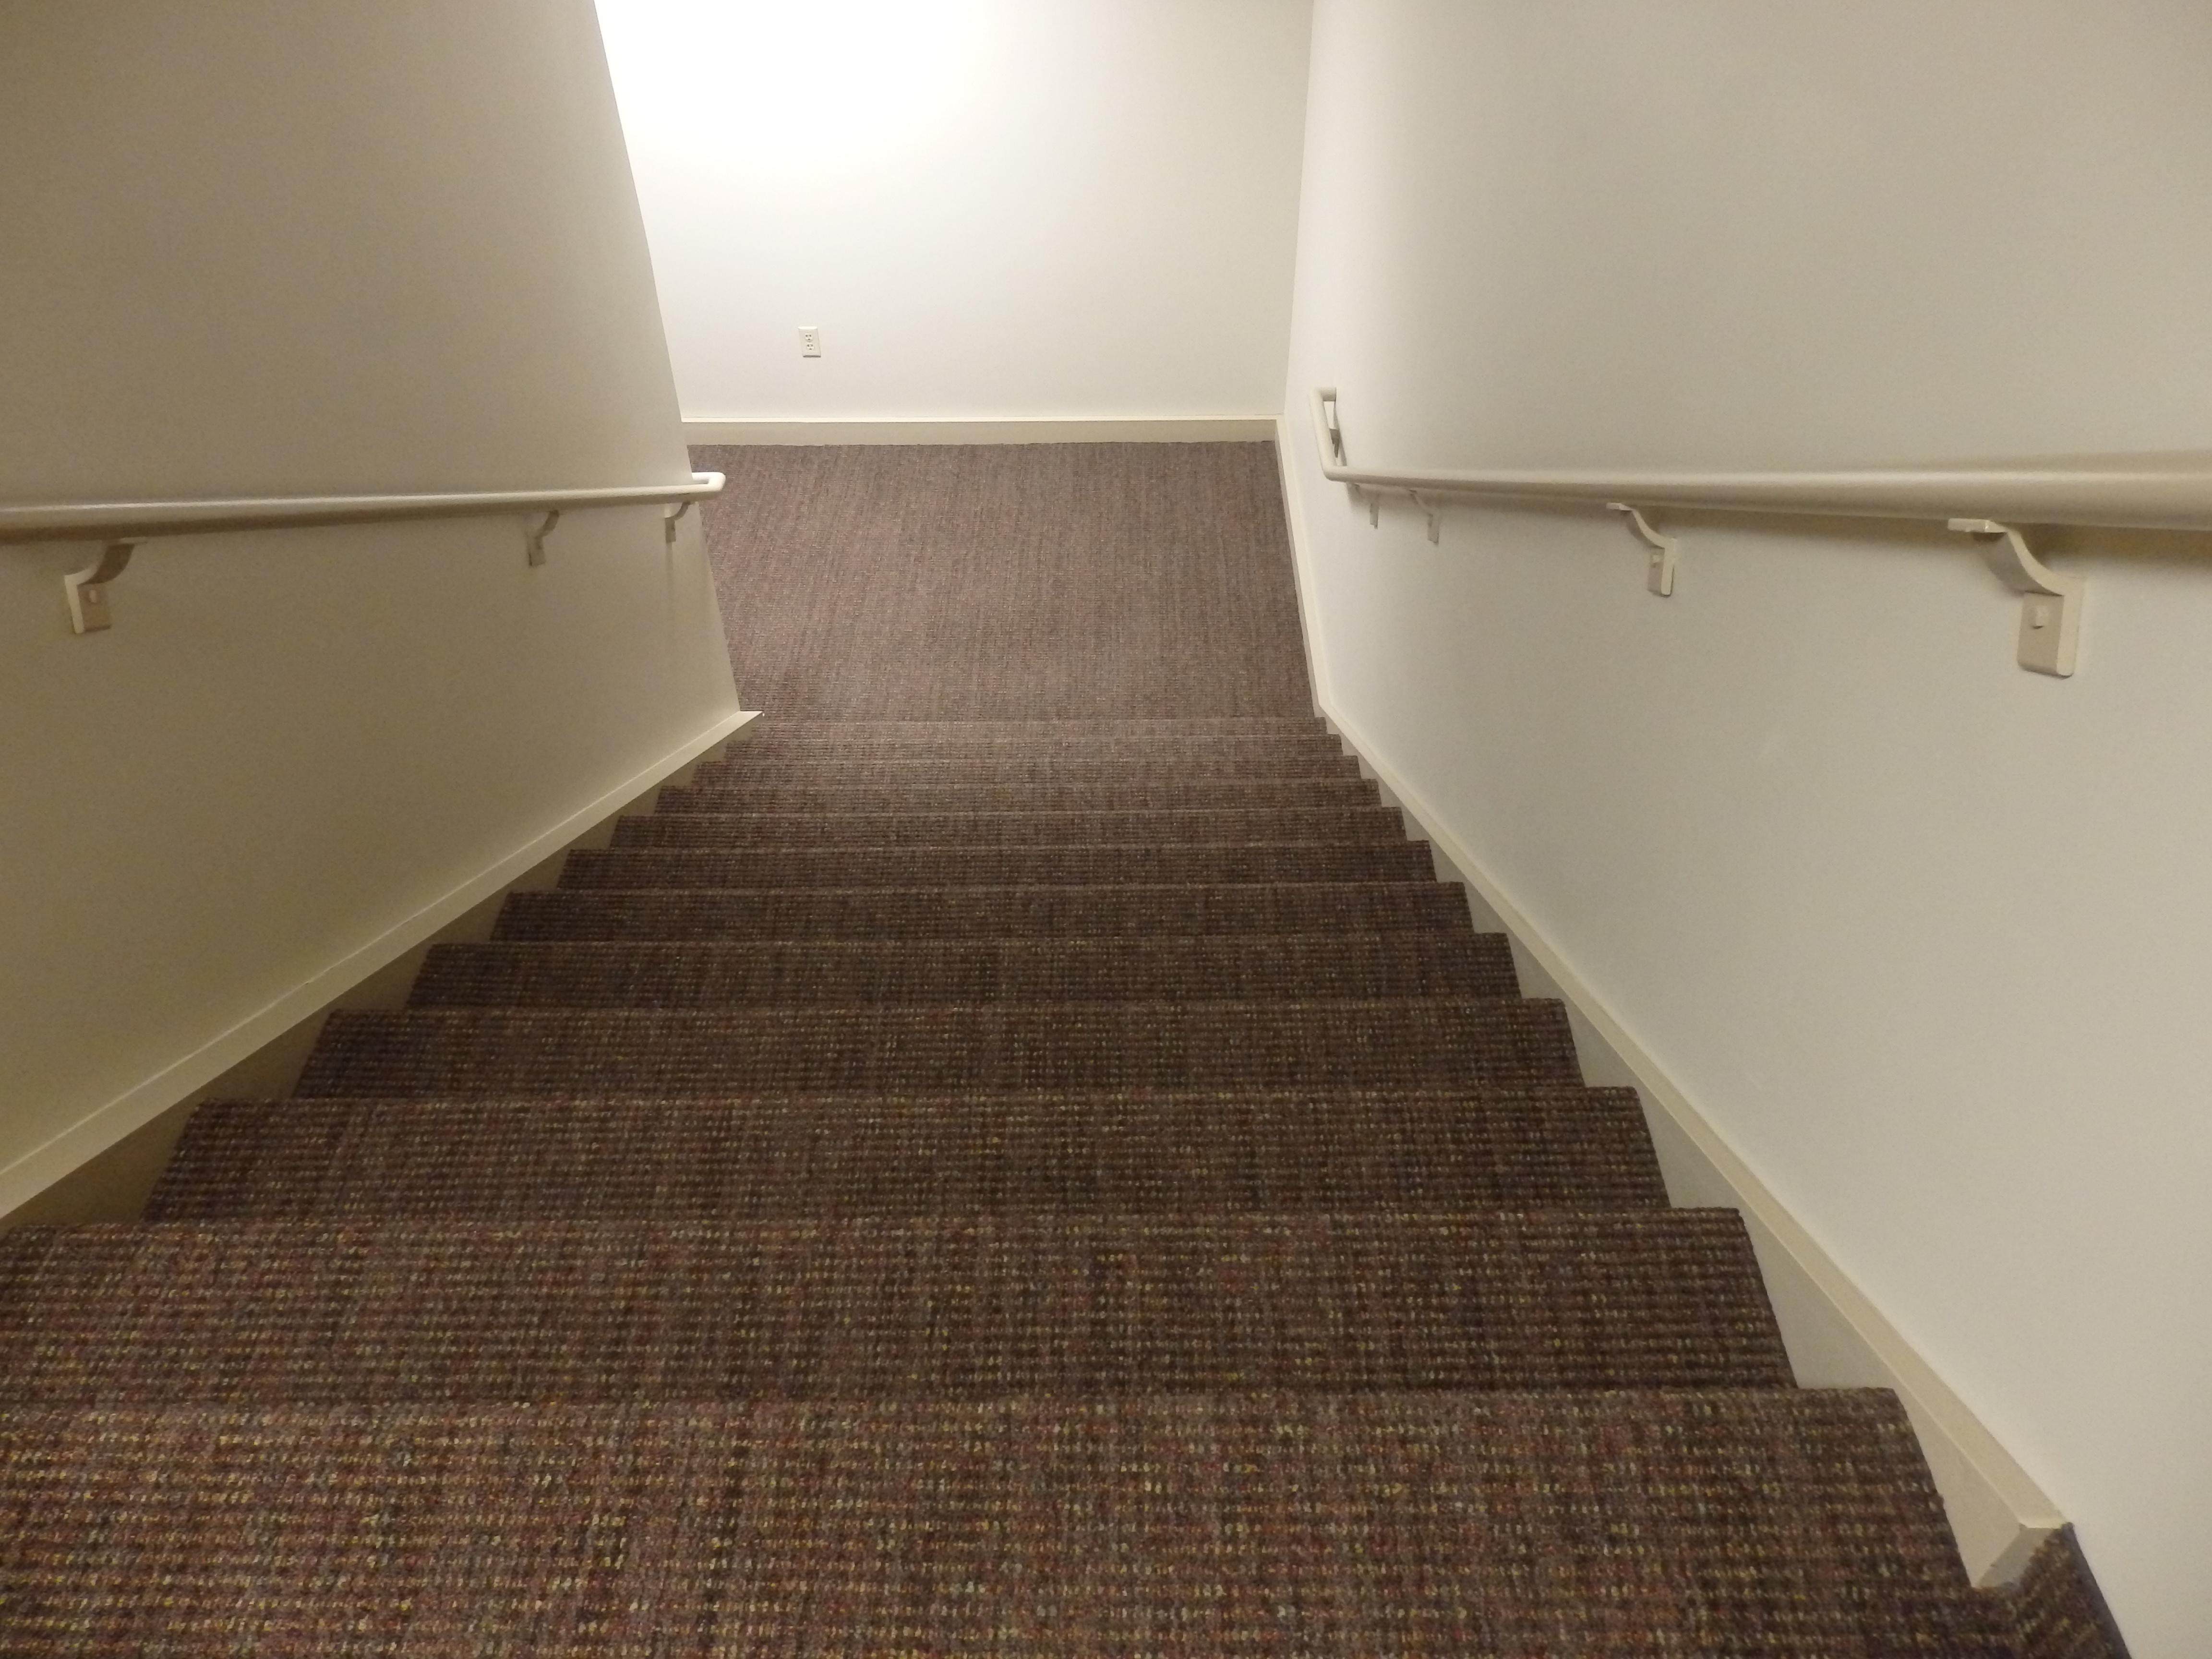stairs_down: (87, 540, 1839, 1549)
